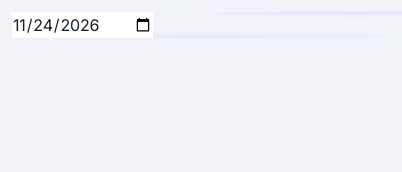
CommitDateInput › leaving a half-typed date saves nothing, restores the stored date and says so
Type "0002-11-25" into the date field.
click(82, 25); type("0002-11-25")  # box [12,12,153,38]
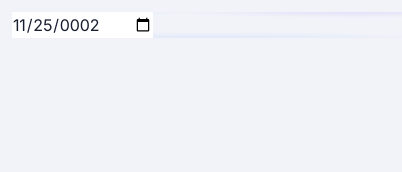
Leave the date field, box [12,12,153,38]
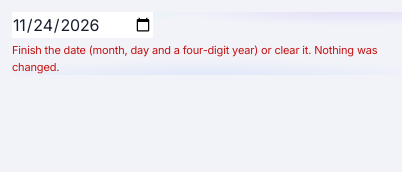
Now the date field holds "2026-11-24", box [12,12,153,38]
Now the message with test id "due-unfinished" shows "Nothing was changed", box [12,43,377,74]
